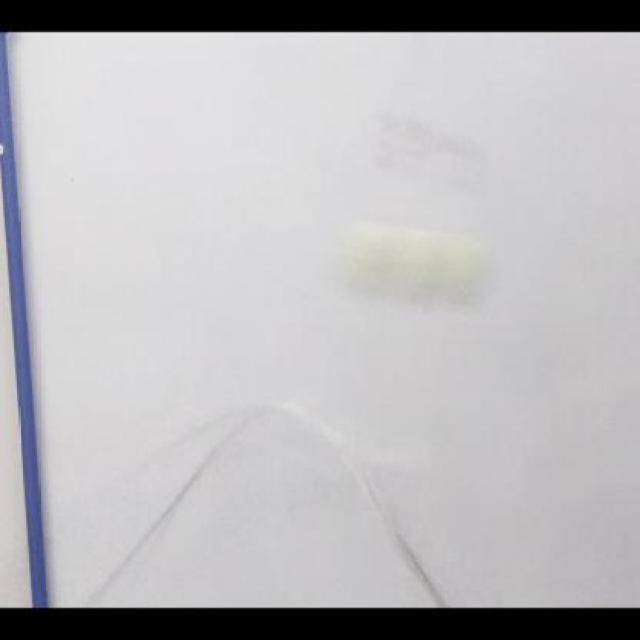baseball: (324, 219, 496, 310)
